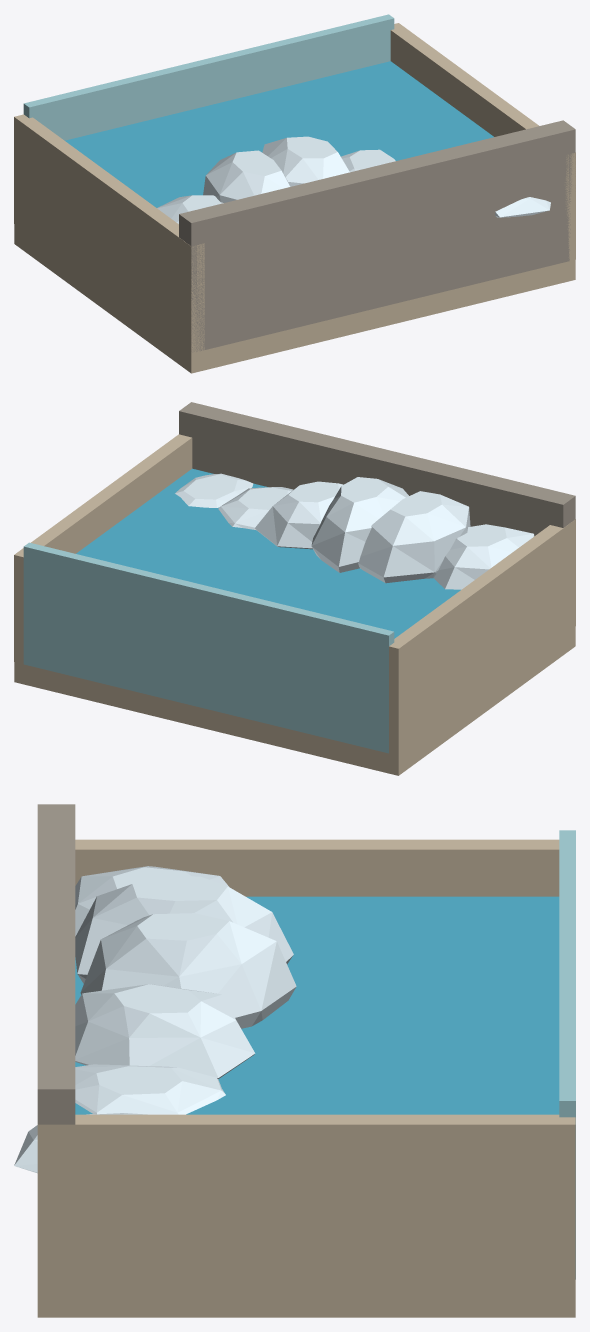
The model's file is penguin_ice_habitat.fbx.
3 views of the same model, one above another, from view 1: azimuth 30°, elevation 25°; view 2: azimuth 150°, elevation 25°; view 3: azimuth 270°, elevation 25° (orthographic). The views are drawn at different scales.
Parts seen in each view (by area): view 1: penguin_ice_habitat; view 2: penguin_ice_habitat; view 3: penguin_ice_habitat.
Boxes of the visible parts, bbox=[...] form: penguin_ice_habitat: bbox=[14, 14, 575, 373]; penguin_ice_habitat: bbox=[14, 402, 575, 775]; penguin_ice_habitat: bbox=[14, 804, 575, 1317].
Size of the model in its own units: 12 by 4.5 by 10.
